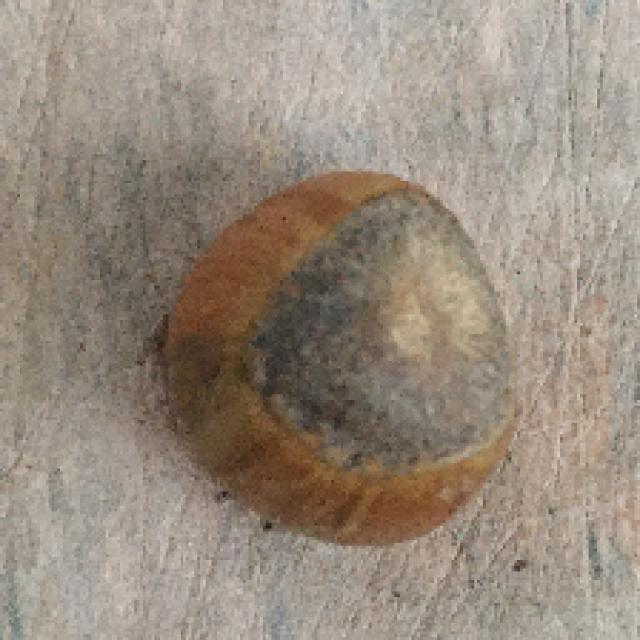qualityHazelnut: (154, 163, 512, 545)
